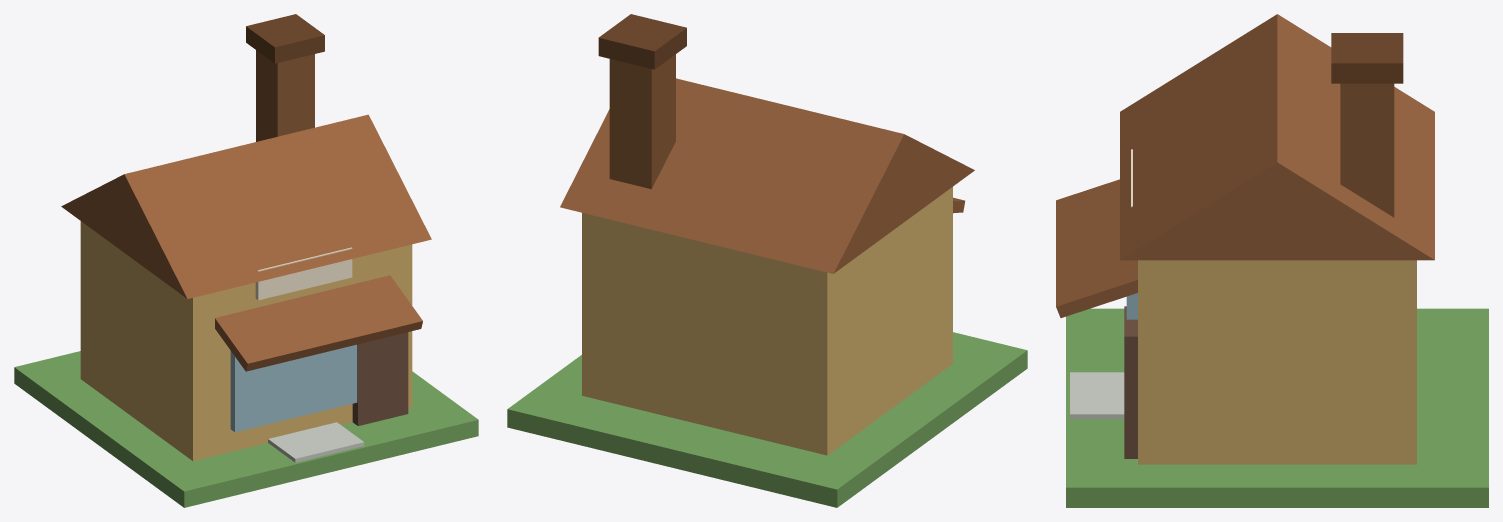
The model's file is bakery.glb.
3 renders of one model, left to right at view 1: azimuth 30°, elevation 25°; view 2: azimuth 150°, elevation 25°; view 3: azimuth 270°, elevation 25°, orthographic. The views are drawn at different scales.
Visible parts, largest first — view 1: bakery; view 2: bakery; view 3: bakery.
Part boxes in pixels (left/top/right/bottom): bakery: left=14, top=14, right=478, bottom=507; bakery: left=507, top=14, right=1027, bottom=507; bakery: left=1056, top=14, right=1488, bottom=507.
Size of the model in its own units: 0.94 by 1.02 by 0.962.
